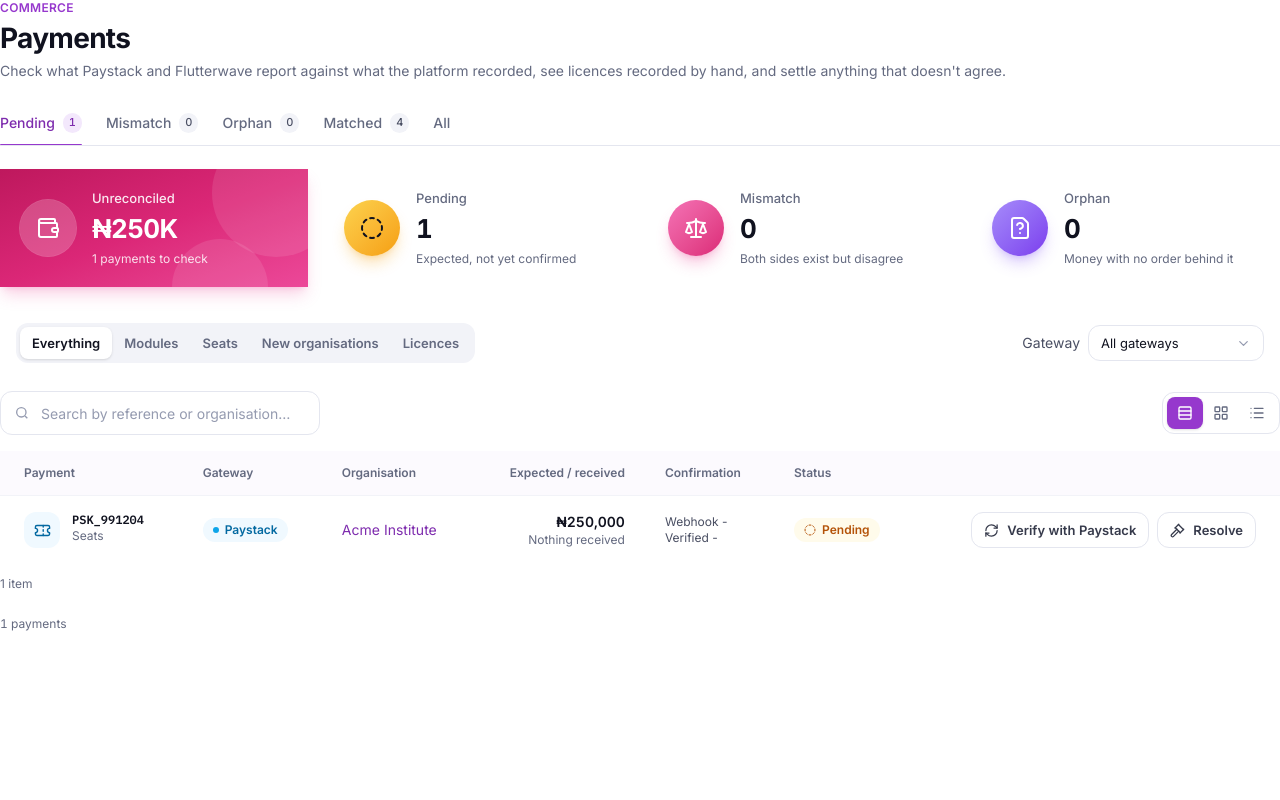
Test: PaymentsBoard: resolving by hand › shows a refusal from the API in the dialog
Expected: the text "PSK_991204" is shown, [72,512,144,528]
Step 1. Click the button "Resolve" → (1207, 530), box [1157,512,1256,548]
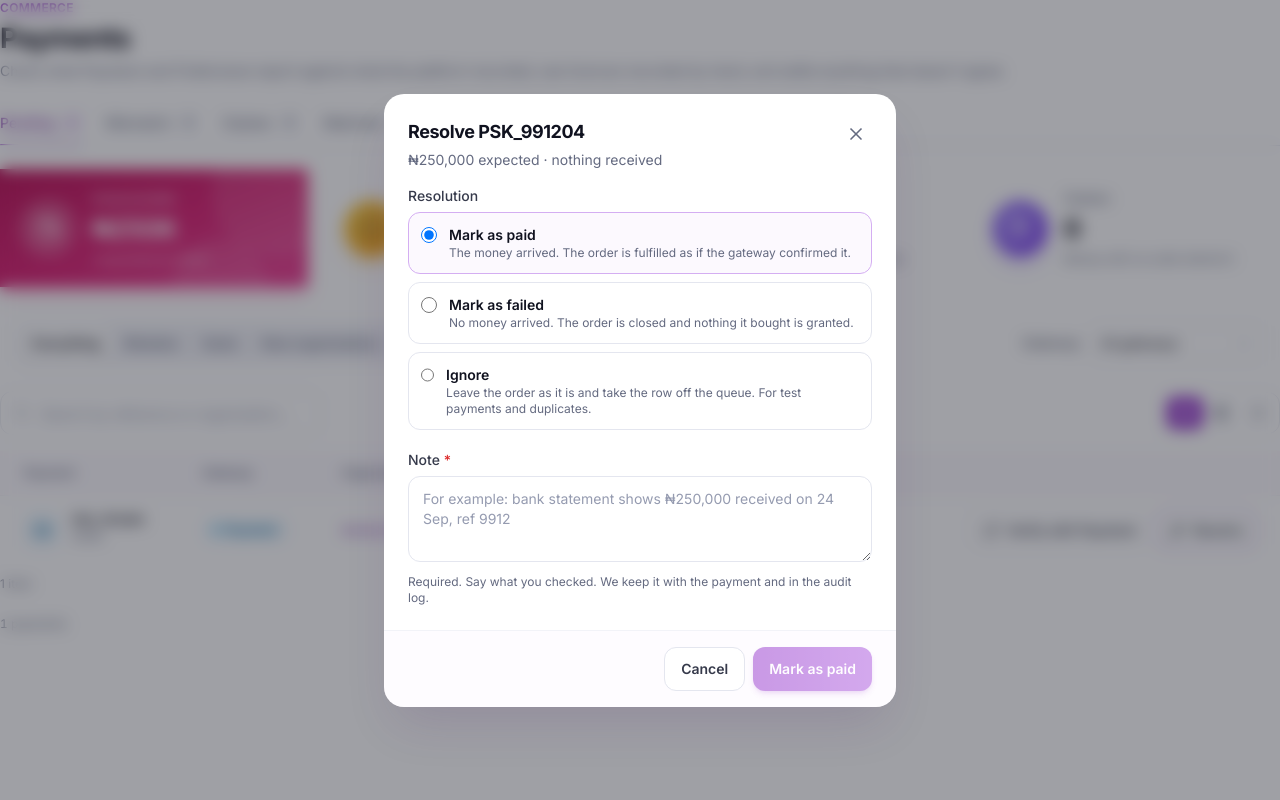
Step 2. Type "Bank statement checked" into the text box labelled "Note *" → (640, 518), box [408,476,872,562]
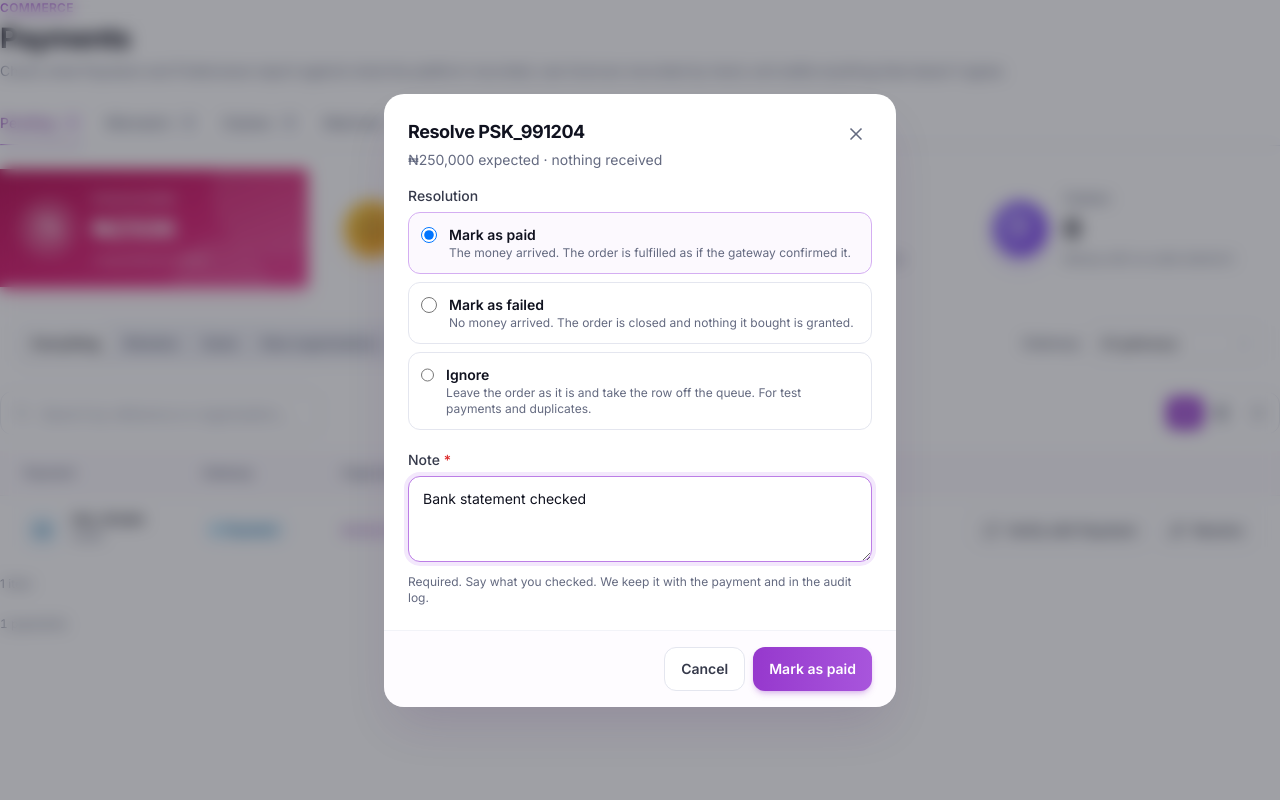
Step 3. Click the button "Mark as paid" → (813, 668), box [753,646,872,690]
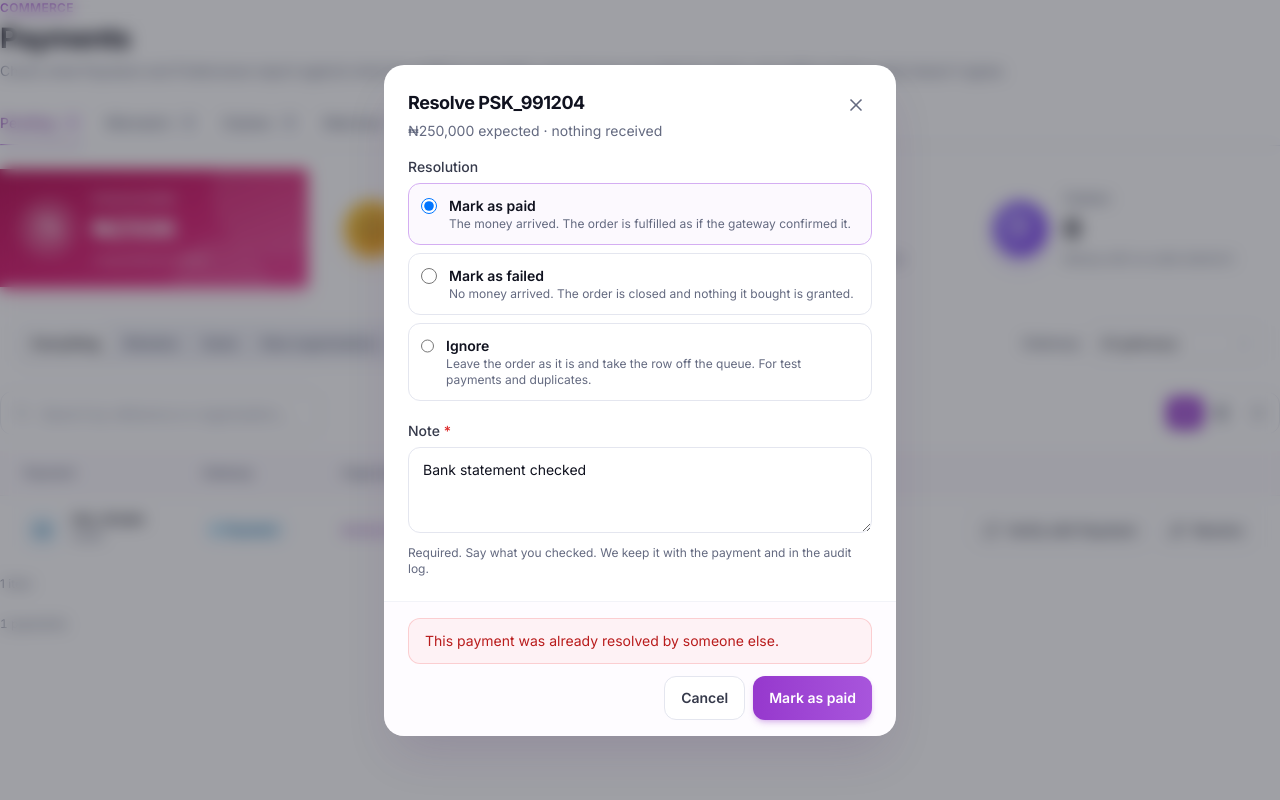
Now the text "This payment was already resolved by someone else." is shown, box [408,618,872,664]
